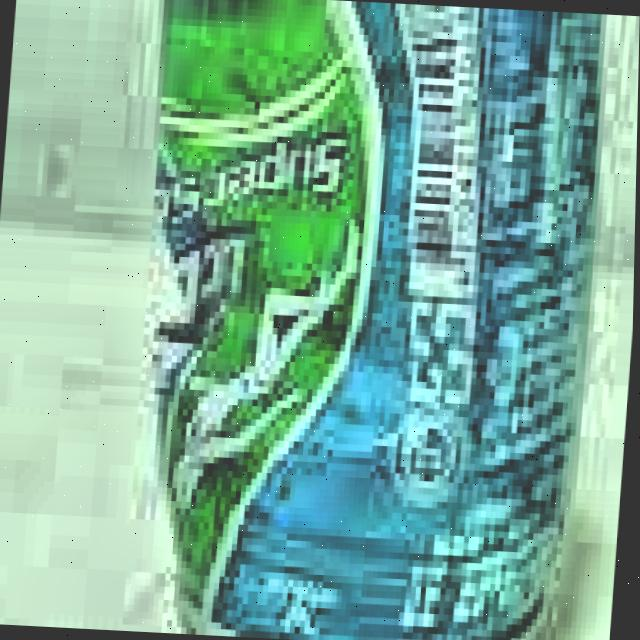metal: (95, 0, 640, 640)
